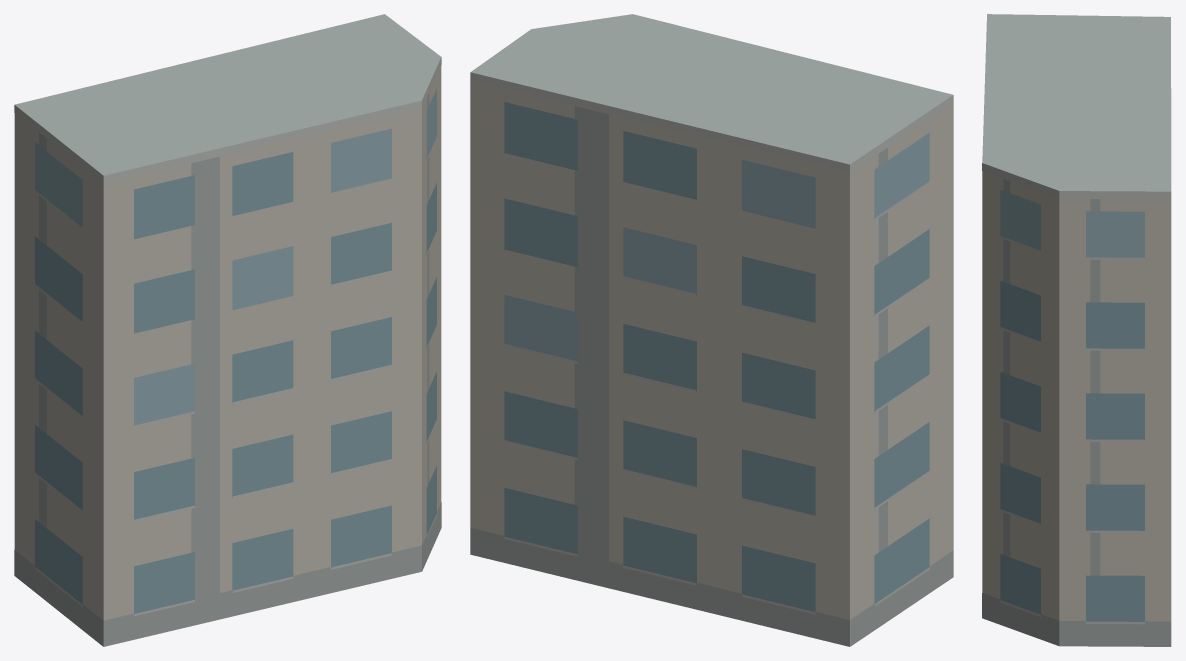
File: survey-upis-32728804.glb
The picture shows the model from 3 angles, left to right: view 1: azimuth 30°, elevation 25°; view 2: azimuth 150°, elevation 25°; view 3: azimuth 270°, elevation 25°; orthographic projection. The views are drawn at different scales.
Visible parts, largest first — view 1: survey-upis-32728804.tmp; view 2: survey-upis-32728804.tmp; view 3: survey-upis-32728804.tmp.
Part boxes in pixels (x1,y1,x2,y2): survey-upis-32728804.tmp: (14, 14, 441, 646); survey-upis-32728804.tmp: (470, 14, 953, 646); survey-upis-32728804.tmp: (982, 14, 1171, 646).
Size of the model in its own units: 11.68 by 13.95 by 5.27.
